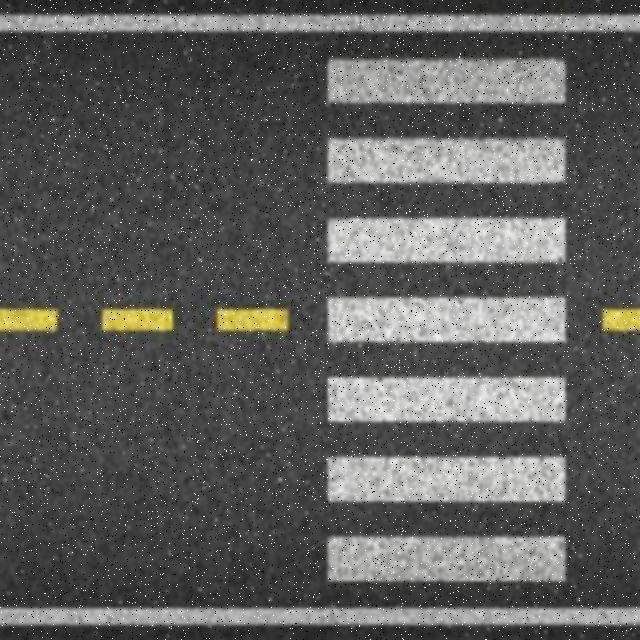Pedestrian crosswalk: (300, 34, 583, 608)
